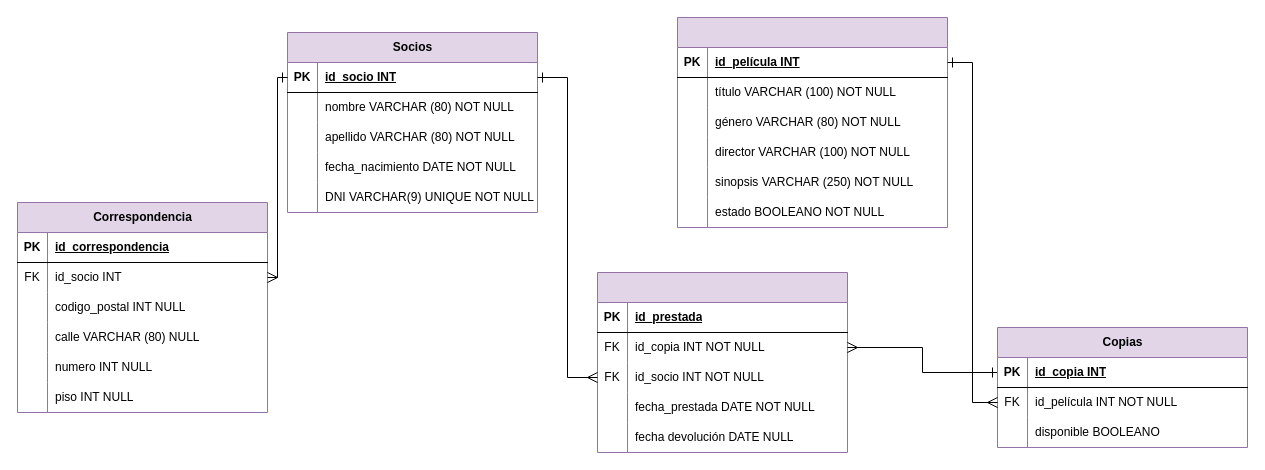
Image size: 1265x470. Some labels were removed from this diagram. Each missing label, with the box of its shape:
Películas: (676, 16, 948, 228)
Prestadas: (596, 272, 848, 452)
